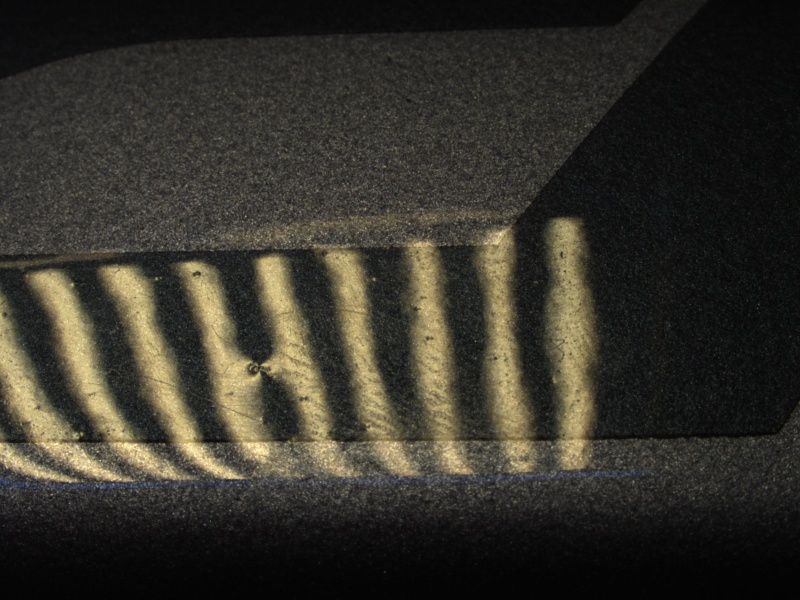bad: (239, 350, 282, 386)
